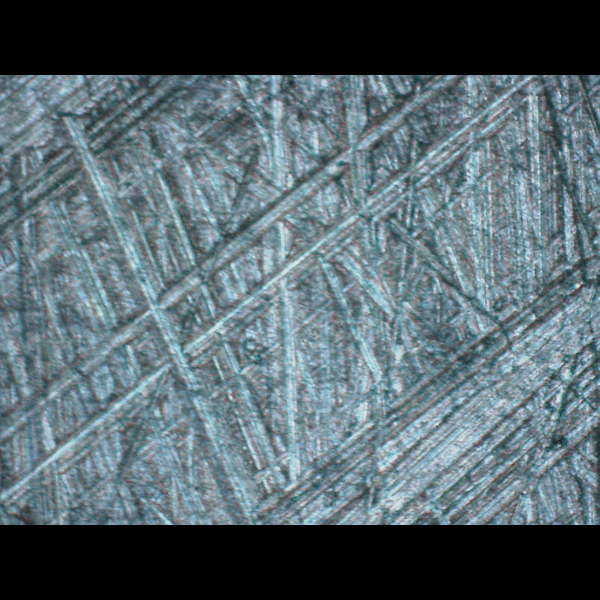d: (241, 250, 600, 523), (53, 110, 264, 515)
